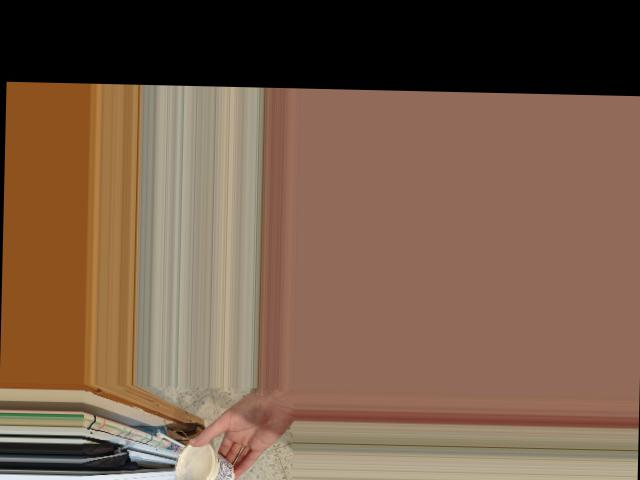cotage: (174, 442, 236, 480)
